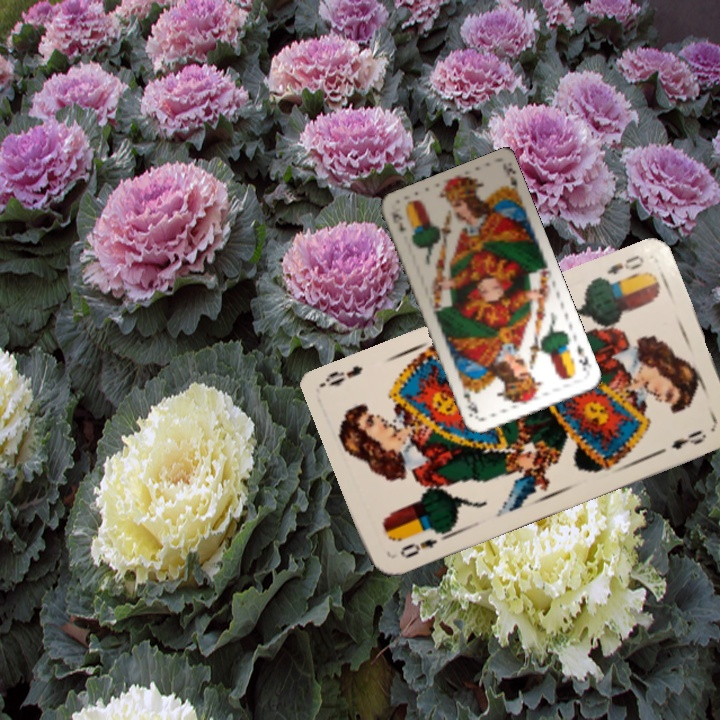EK: (573, 341, 591, 374), (388, 208, 408, 234)
EO: (602, 251, 647, 278), (396, 534, 440, 561)
